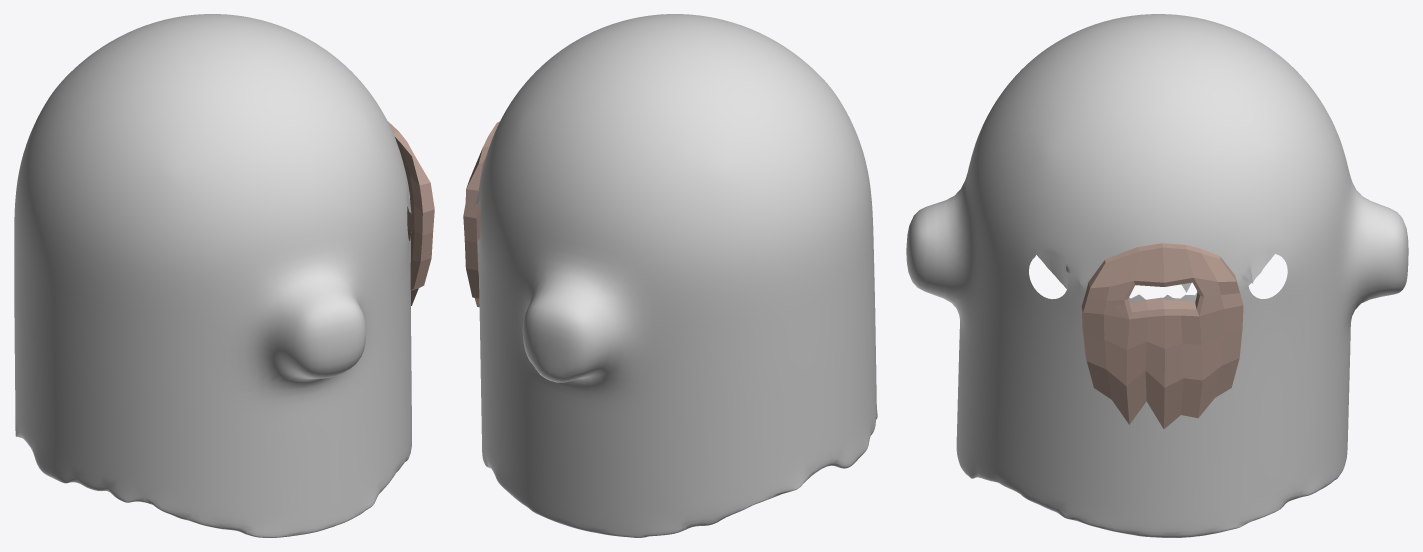
File: evilbeard.glb
3 renders of one model, left to right at view 1: azimuth 30°, elevation 25°; view 2: azimuth 150°, elevation 25°; view 3: azimuth 270°, elevation 25°, orthographic.
Parts seen in each view (by area): view 1: Cube, Object_4.001; view 2: Cube, Object_4.001; view 3: Cube, Object_4.001.
Boxes of the visible parts, x1=… form: Cube: x1=14, y1=14, x2=411, y2=537; Object_4.001: x1=387, y1=121, x2=434, y2=305; Cube: x1=474, y1=14, x2=877, y2=537; Object_4.001: x1=463, y1=121, x2=499, y2=307; Cube: x1=906, y1=14, x2=1408, y2=537; Object_4.001: x1=1081, y1=243, x2=1243, y2=428.
Bounding box in the file's own units: 1.8 × 2.05 × 2.18.
